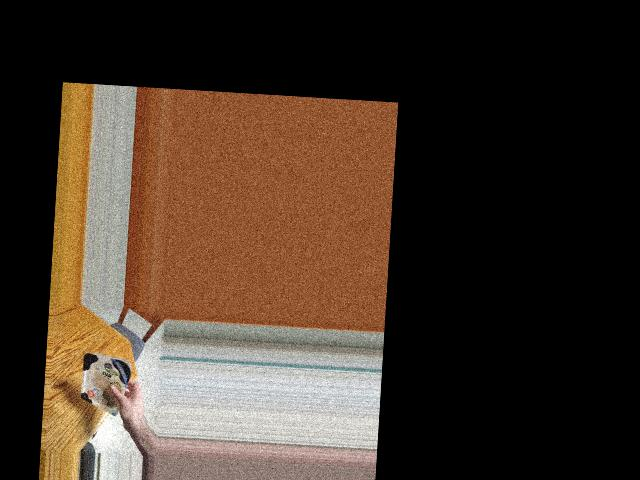cheese: (84, 351, 124, 412)
